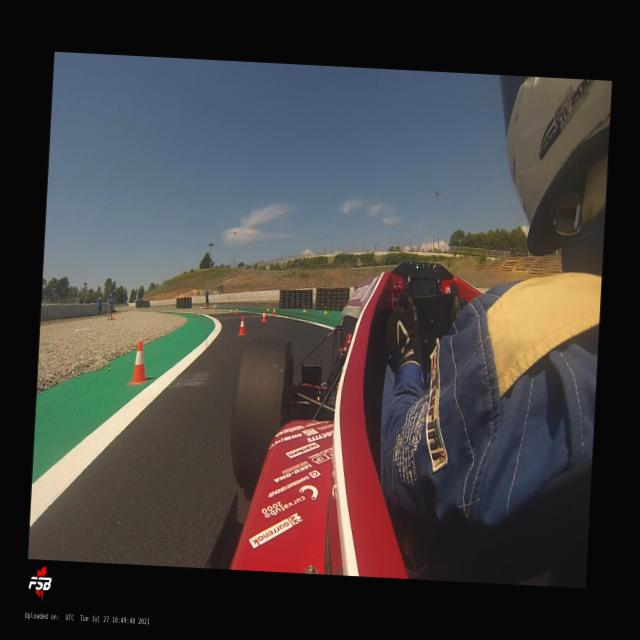orange_cone: (128, 340, 152, 385), (237, 316, 248, 336), (262, 310, 267, 322), (273, 307, 276, 315), (236, 307, 238, 314), (195, 309, 197, 315)
yellow_cone: (323, 305, 328, 315), (302, 303, 306, 312), (266, 304, 270, 312), (230, 306, 232, 312)
